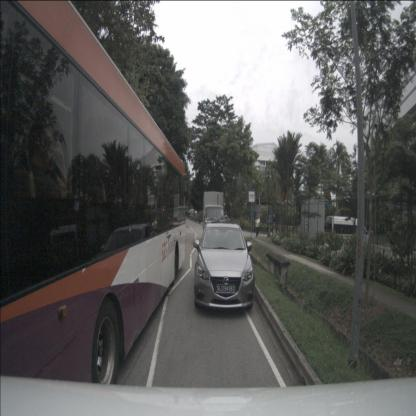human-pedestrian-adult: (254, 216, 258, 237), (256, 216, 260, 236)
vehicle-bus-rigid: (0, 2, 186, 400), (324, 216, 369, 252)
vehicle-car: (193, 222, 255, 311), (203, 191, 225, 238)
